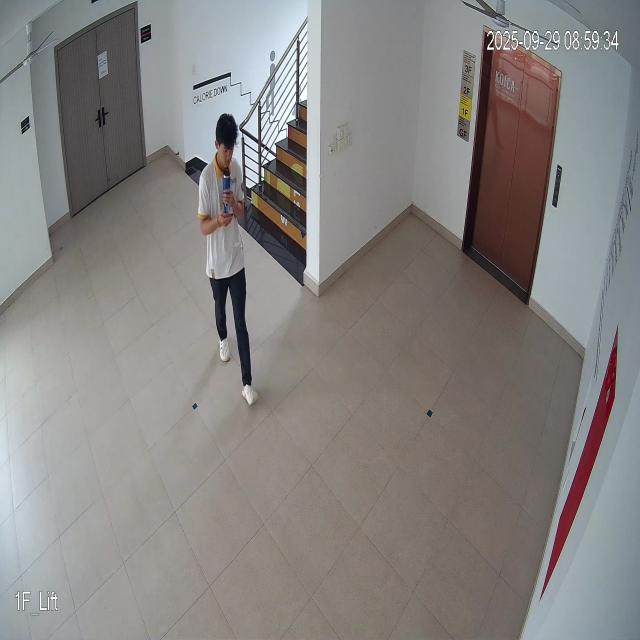face: (214, 112, 237, 178)
